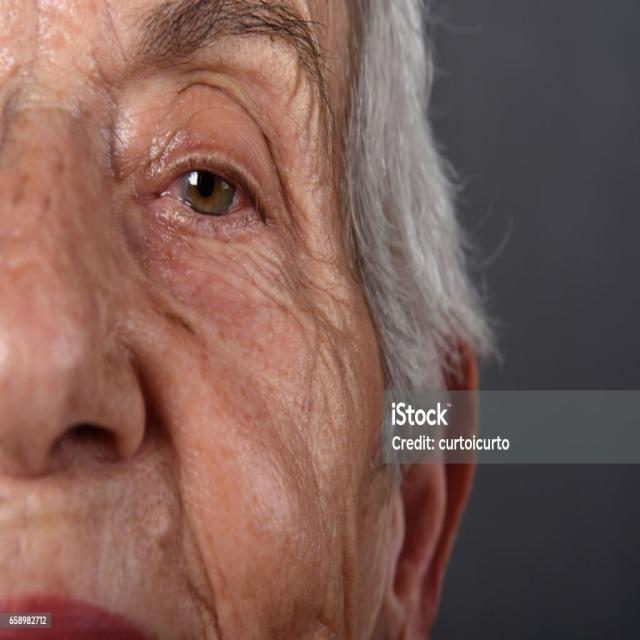dry: (18, 0, 116, 407), (177, 226, 352, 451)
